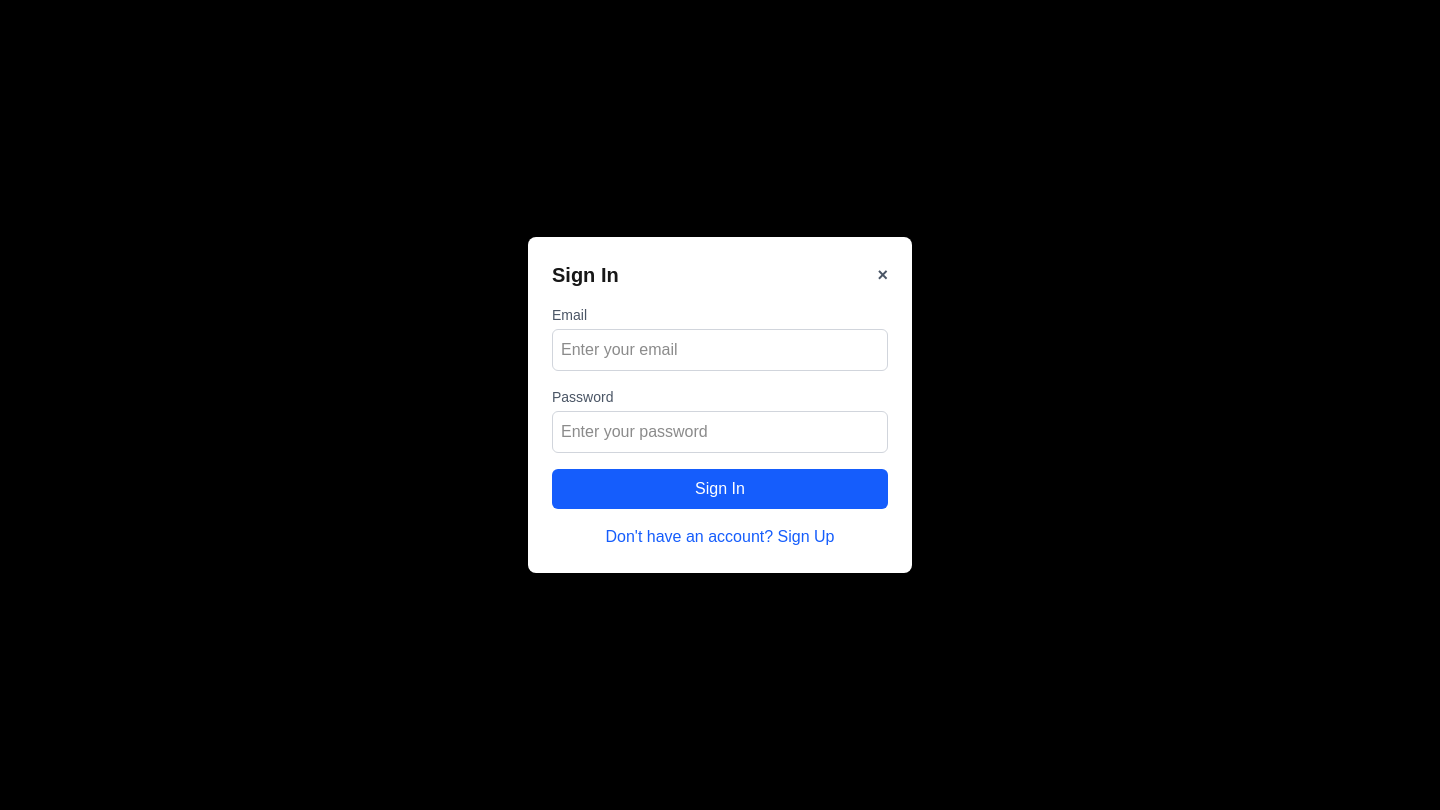
Test: Modal Component › shows error if email not confirmed
Type "test@example.com" into the field labelled "Email" at [720, 350], box x1=552 y1=329 x2=888 y2=371
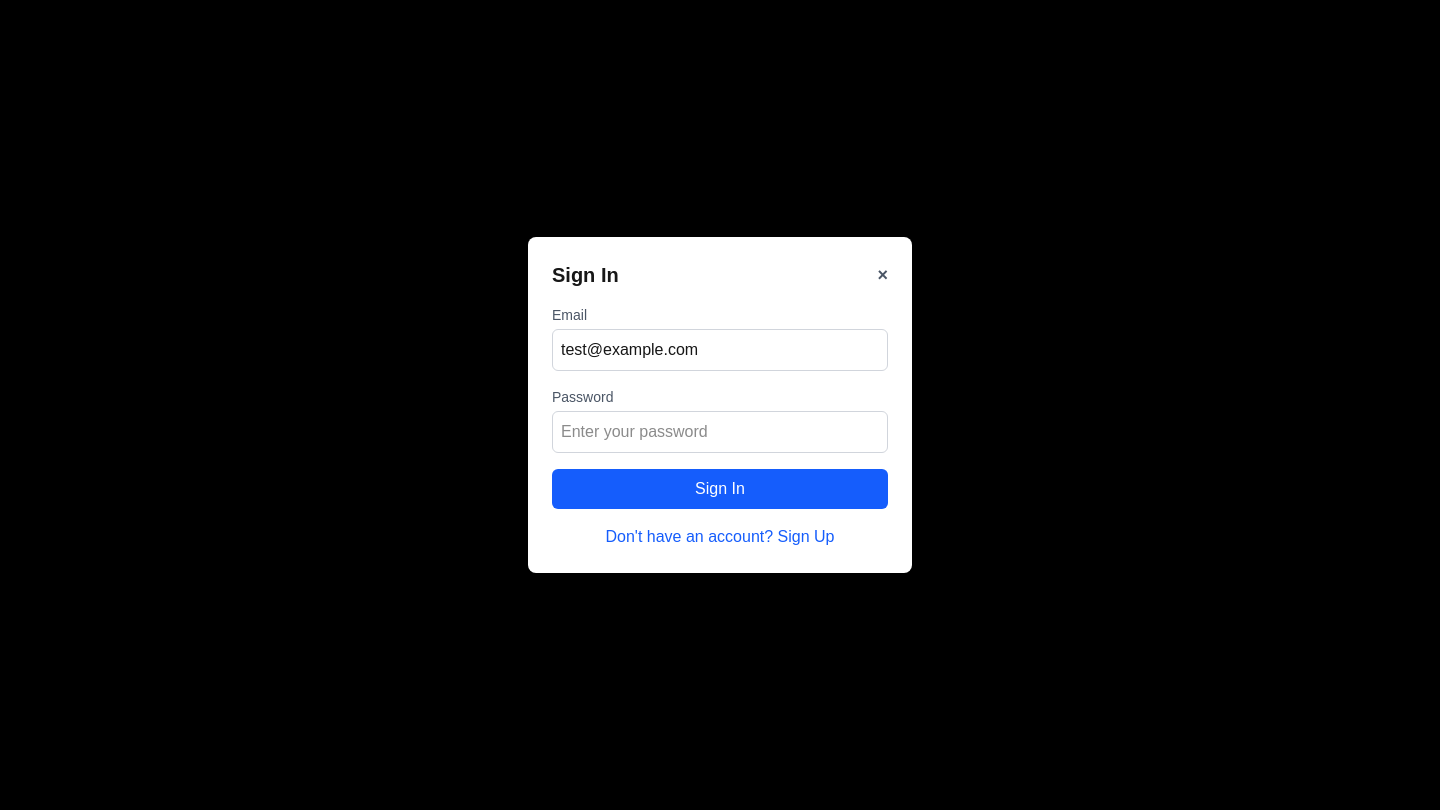
Type "password123" into the password field labelled "Password" at [720, 432], box x1=552 y1=411 x2=888 y2=453
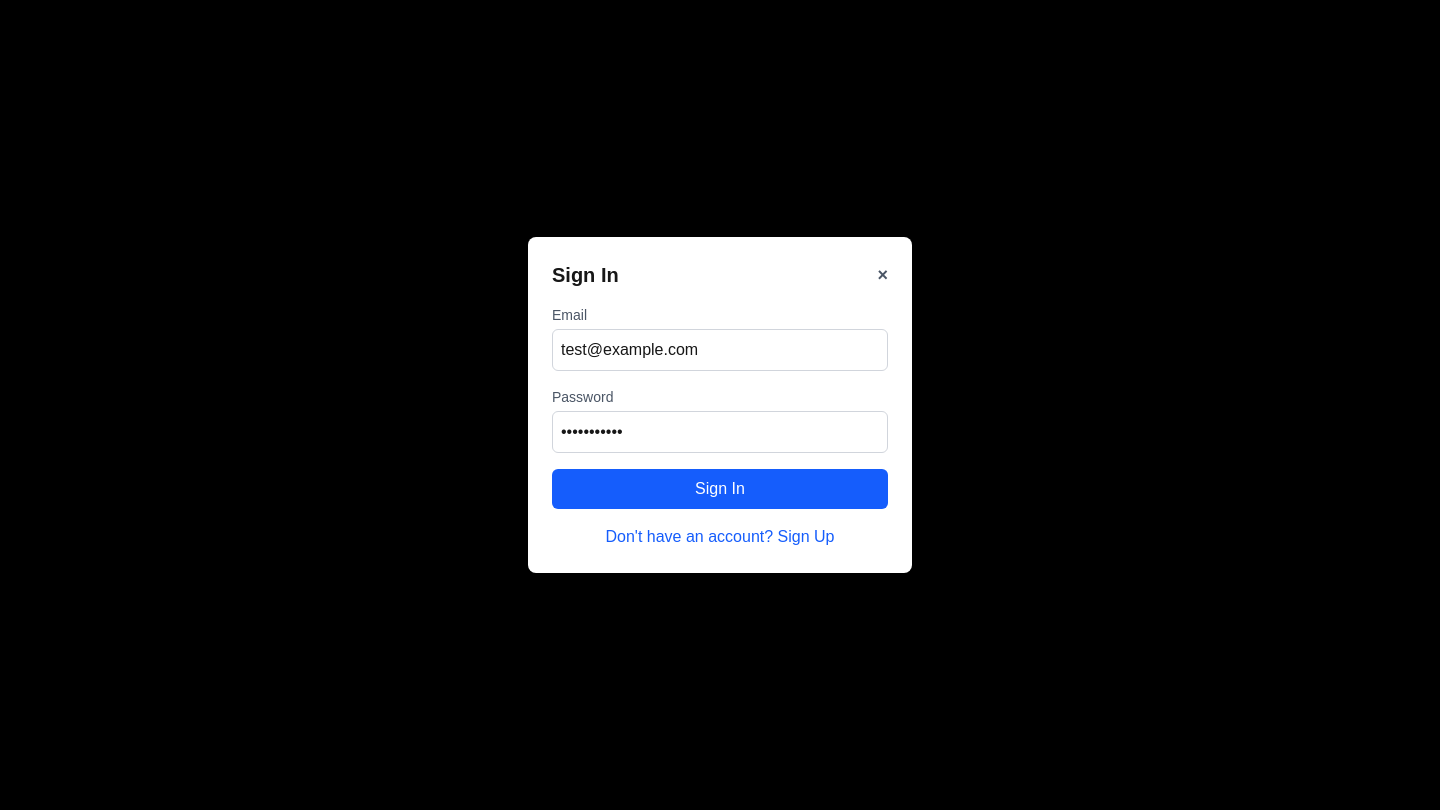
Click the button "Sign In" at [720, 489], box x1=552 y1=469 x2=888 y2=509
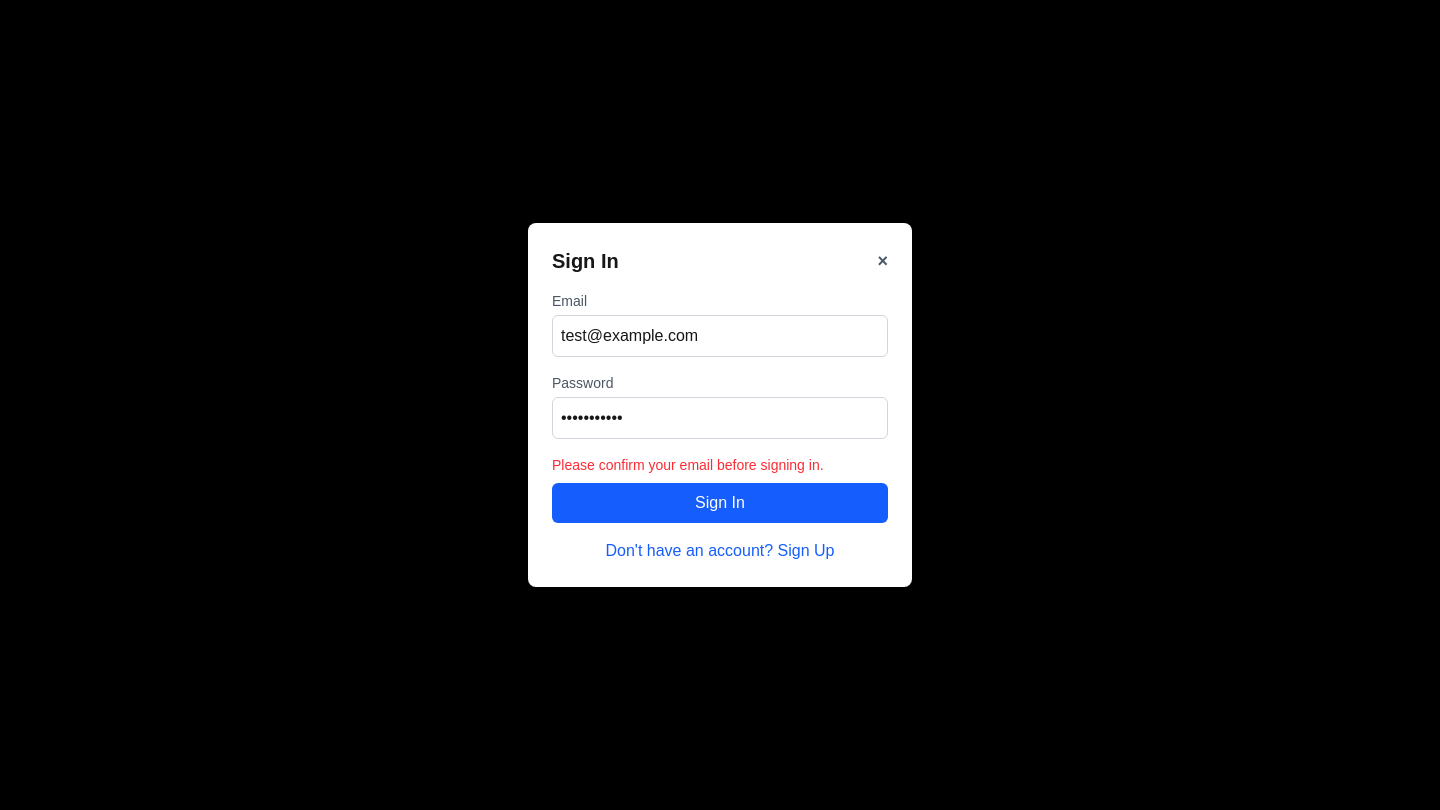
Check: the text "Please confirm your email before signing in." is shown, box x1=552 y1=457 x2=824 y2=473
